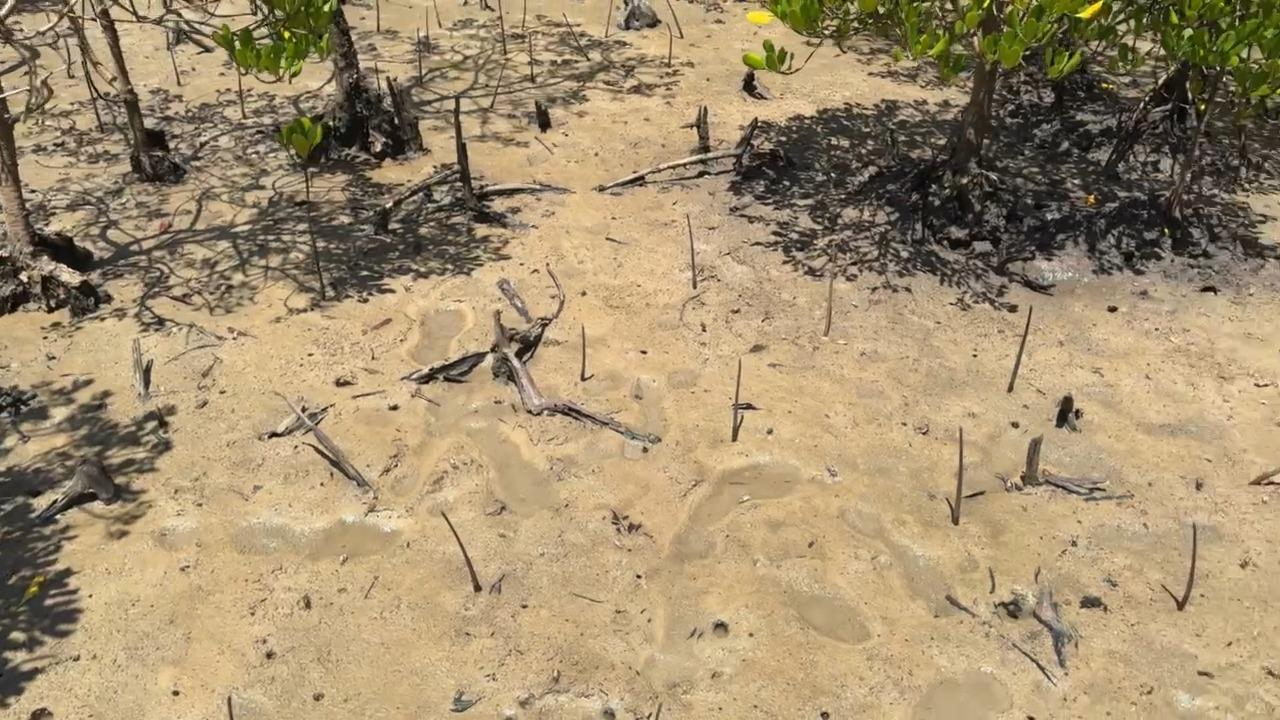Tree: (277, 117, 326, 301), (442, 511, 479, 593), (1007, 305, 1033, 393), (1175, 523, 1198, 612), (81, 60, 104, 134), (951, 425, 965, 526), (822, 246, 837, 336), (564, 14, 590, 62), (730, 357, 742, 442), (686, 213, 697, 289), (665, 0, 685, 38), (491, 67, 503, 111), (237, 65, 246, 117), (415, 27, 423, 84), (171, 45, 182, 86), (498, 0, 506, 55), (580, 325, 586, 380), (667, 22, 674, 68), (605, 0, 613, 38), (425, 5, 430, 52), (433, 0, 441, 28), (529, 36, 534, 80), (376, 0, 382, 32), (522, 0, 527, 29)
